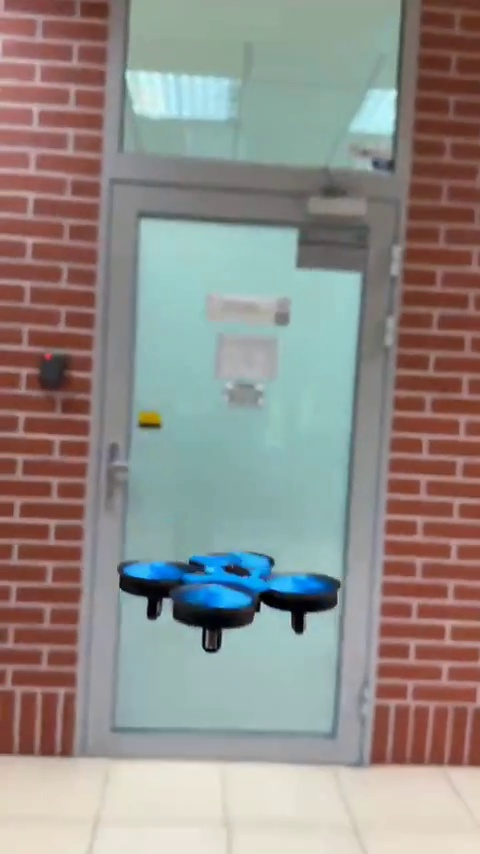drone: (123, 547, 349, 647)
